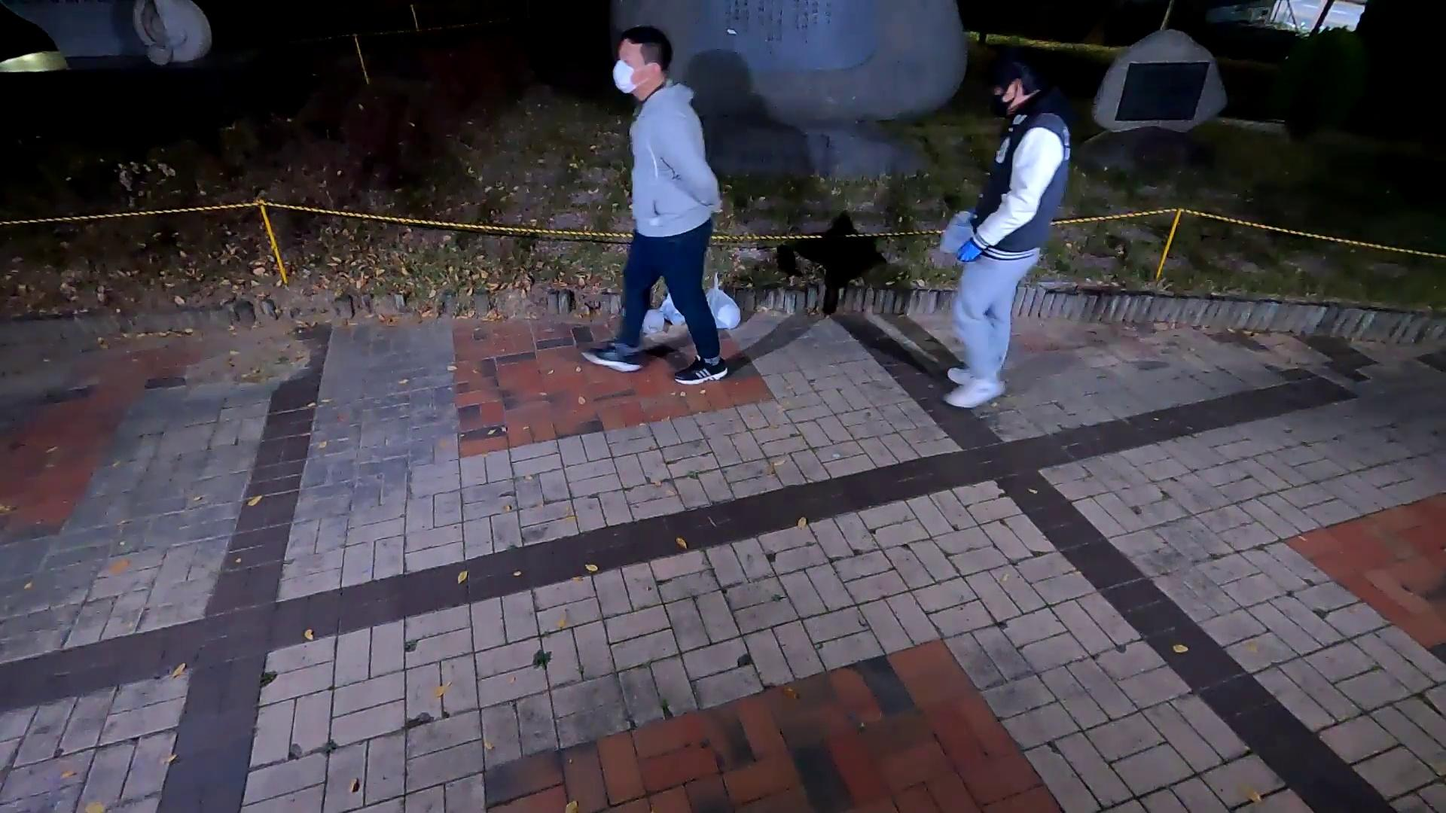person: (583, 22, 728, 384), (946, 60, 1070, 405)
trash: (707, 270, 743, 329), (939, 208, 977, 260), (659, 294, 685, 327), (641, 308, 666, 336)
